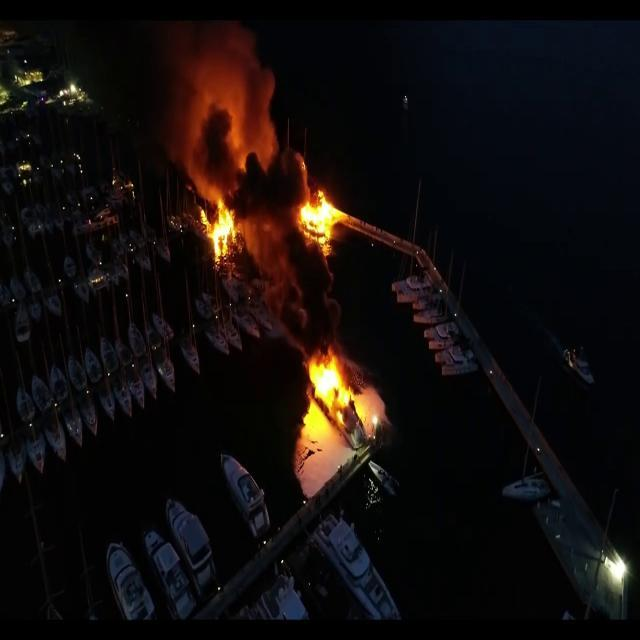Fire: (301, 344, 388, 448), (294, 181, 350, 251), (198, 191, 242, 264)
Smoke: (158, 20, 278, 170)
